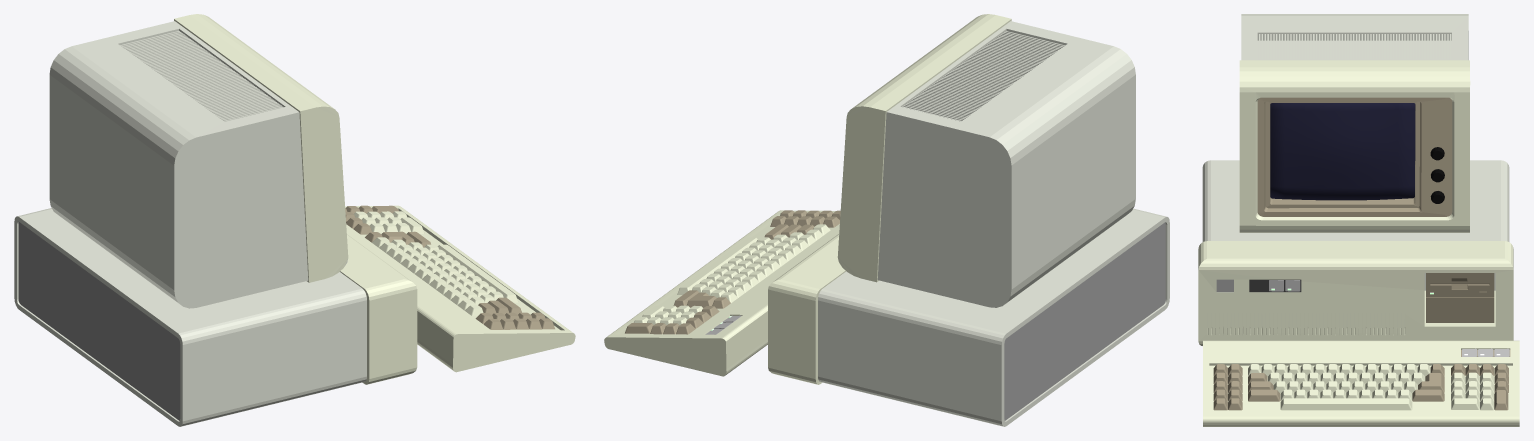
3 views of the same model, side by side, from view 1: azimuth 30°, elevation 25°; view 2: azimuth 150°, elevation 25°; view 3: azimuth 270°, elevation 25° (orthographic). The views are drawn at different scales.
Visible parts, largest first — view 1: monitor, cpu, kewboard, vent monitor, Plane.004, Plane.005, Plane.007, Plane.002, Plane.001, Plane.009; view 2: monitor, cpu, kewboard, vent monitor, Plane.004, Plane.005, Plane.007, Plane.002, Plane.009, Plane.003; view 3: cpu, monitor, kewboard, Cube, vent monitor, flopy, Plane.002, Plane.004, Plane.005, Plane.007, Plane.009, Plane.003 (+10 smaller).
Boxes of the visible parts, x1,y1,x2,y2 form: monitor: (49,14,348,308); cpu: (14,208,417,426); kewboard: (345,205,575,372); vent monitor: (120,31,283,121); Plane.004: (372,237,483,315); Plane.005: (391,239,484,305); Plane.007: (408,242,494,302); Plane.002: (437,244,518,302); Plane.001: (483,318,554,329); Plane.009: (424,244,503,300); monitor: (837,14,1135,307); cpu: (768,208,1169,426); kewboard: (604,210,839,376); vent monitor: (902,31,1064,121); Plane.004: (721,224,830,302); Plane.005: (710,232,803,297); Plane.007: (701,234,787,295); Plane.002: (677,237,757,294); Plane.009: (692,237,770,292); Plane.003: (770,216,839,227); cpu: (1198,160,1513,345); monitor: (1239,14,1470,232); kewboard: (1203,340,1519,426); Cube: (1270,103,1415,200); vent monitor: (1259,34,1451,59); flopy: (1426,273,1494,322); Plane.002: (1280,398,1412,410); Plane.004: (1248,364,1430,376); Plane.005: (1268,372,1425,384); Plane.007: (1273,381,1417,393); Plane.009: (1280,389,1411,401); Plane.003: (1228,364,1242,410).
Size of the model in its own units: 0.8653 by 0.5888 by 0.672.
